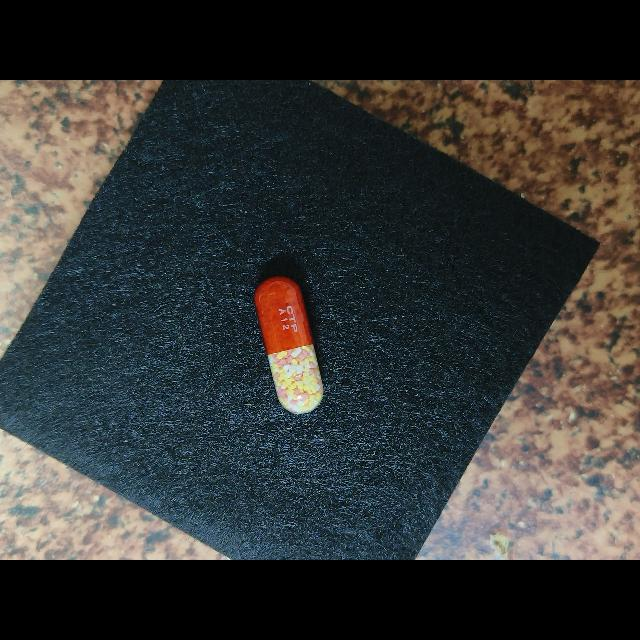Intact Capsule: (254, 276, 324, 413)
